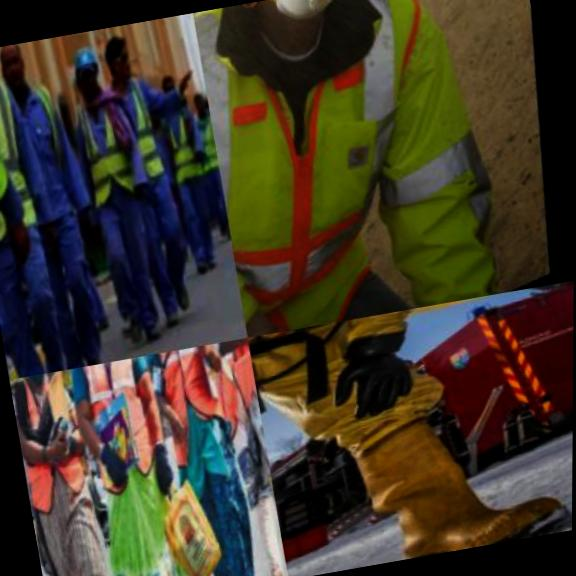safety_vest: (190, 0, 559, 336), (246, 294, 521, 508), (65, 352, 187, 509), (8, 367, 109, 517), (1, 74, 98, 230), (140, 340, 253, 473), (67, 84, 161, 221), (0, 73, 63, 258), (116, 68, 184, 190), (0, 45, 39, 229), (161, 108, 222, 200), (196, 119, 220, 186)
